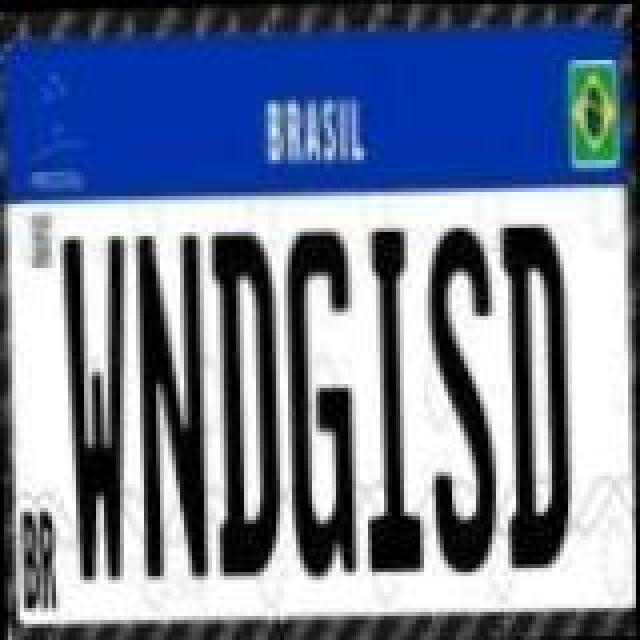D: (496, 218, 576, 574), (208, 228, 288, 580)
G: (280, 224, 360, 580)
I: (356, 226, 428, 574)
N: (132, 232, 212, 584)
S: (424, 218, 504, 574)
W: (56, 232, 136, 584)
